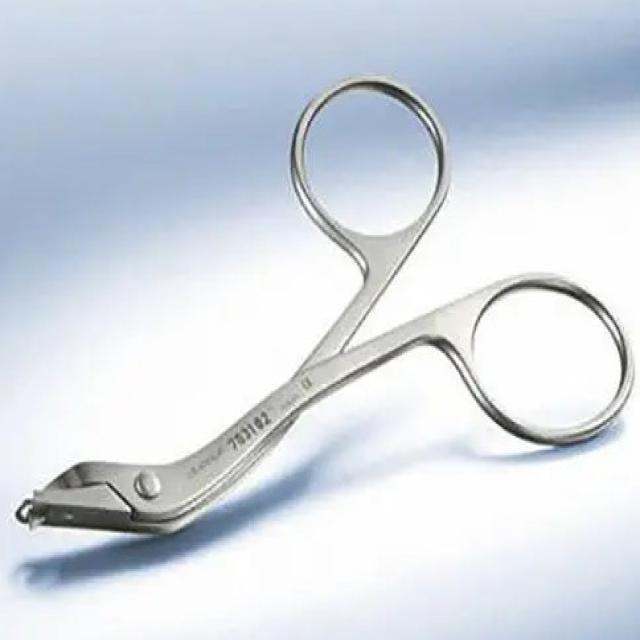Stapler Remover: (10, 69, 638, 552)
